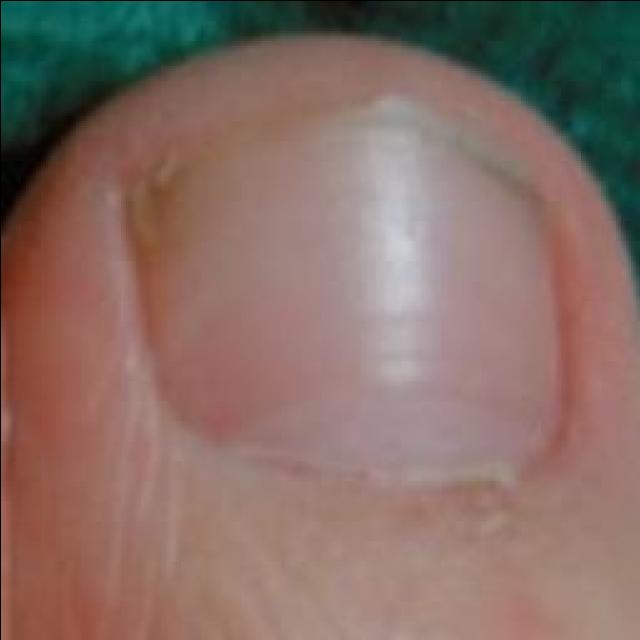Nail: (124, 91, 567, 474)
